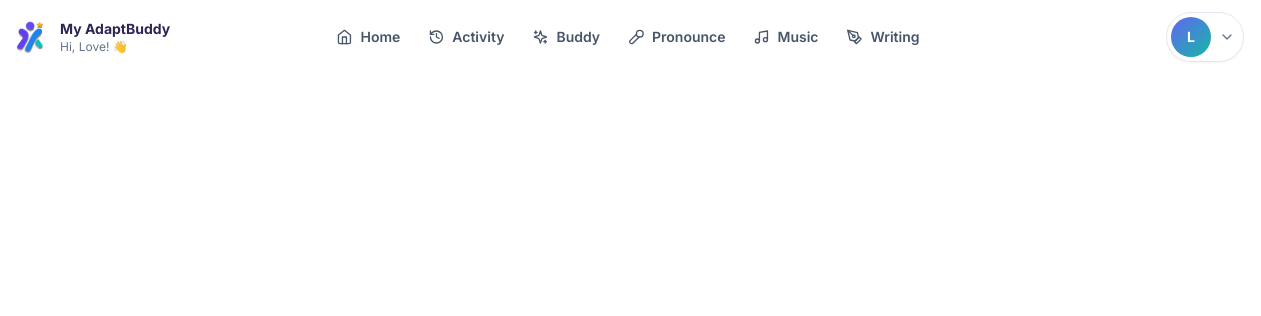
it: ChildDashboardNavbar › labels the selected support profiles without assuming Autism
Click the button named "Open child account menu".
click(1205, 37)  # box x1=1166 y1=12 x2=1244 y2=62
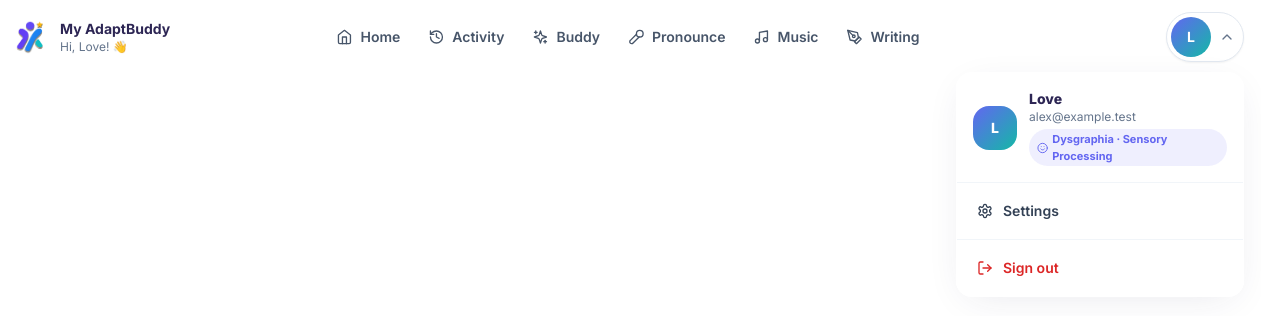
Expected: the text "Dysgraphia · Sensory Processing" is shown, x1=1029 y1=129 x2=1227 y2=166
